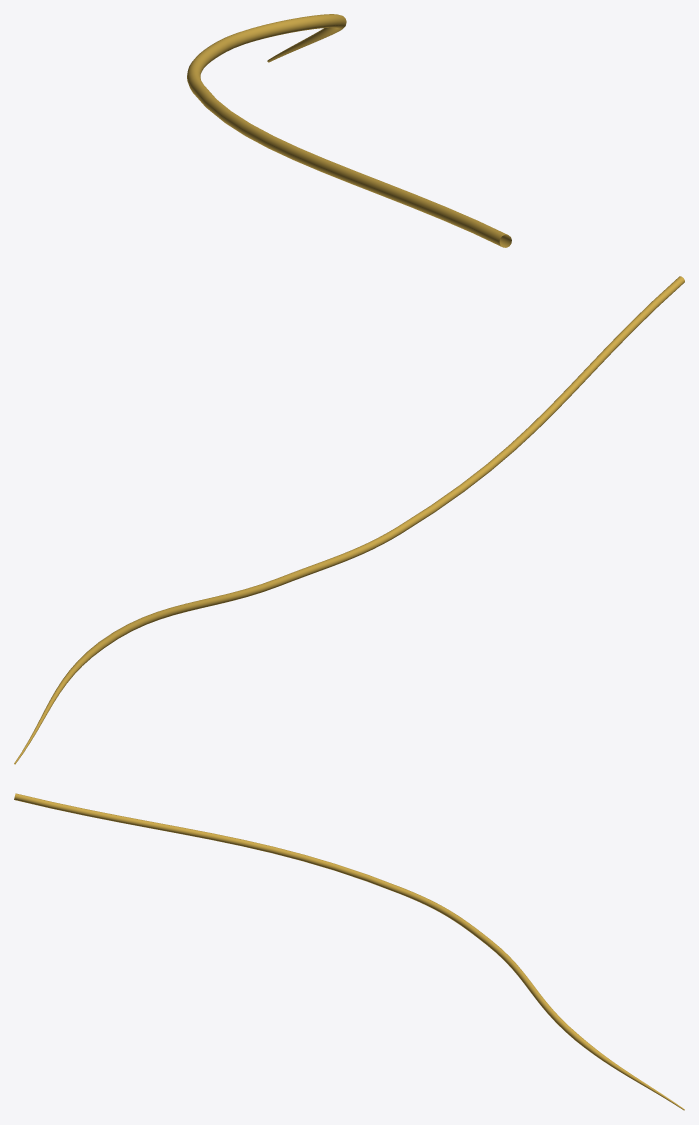
3 renders of one model, top to bottom at view 1: azimuth 30°, elevation 25°; view 2: azimuth 150°, elevation 25°; view 3: azimuth 270°, elevation 25°, orthographic. The views are drawn at different scales.
Parts seen in each view (by area): view 1: 左侧正中神经掌支; view 2: 左侧正中神经掌支; view 3: 左侧正中神经掌支.
Part boxes in pixels (<box>): 左侧正中神经掌支: <box>187,14,511,247</box>; 左侧正中神经掌支: <box>14,276,684,764</box>; 左侧正中神经掌支: <box>14,793,684,1110</box>.
Size of the model in its own units: 0.055 by 0.0505 by 0.1453.
